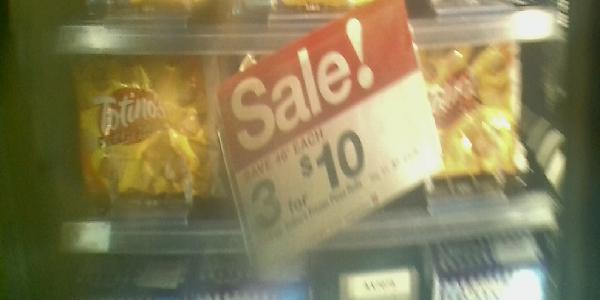icecream: (239, 50, 424, 225), (64, 57, 229, 216), (423, 40, 532, 182)
